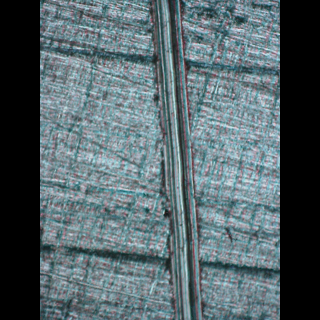d: (141, 0, 205, 318)
